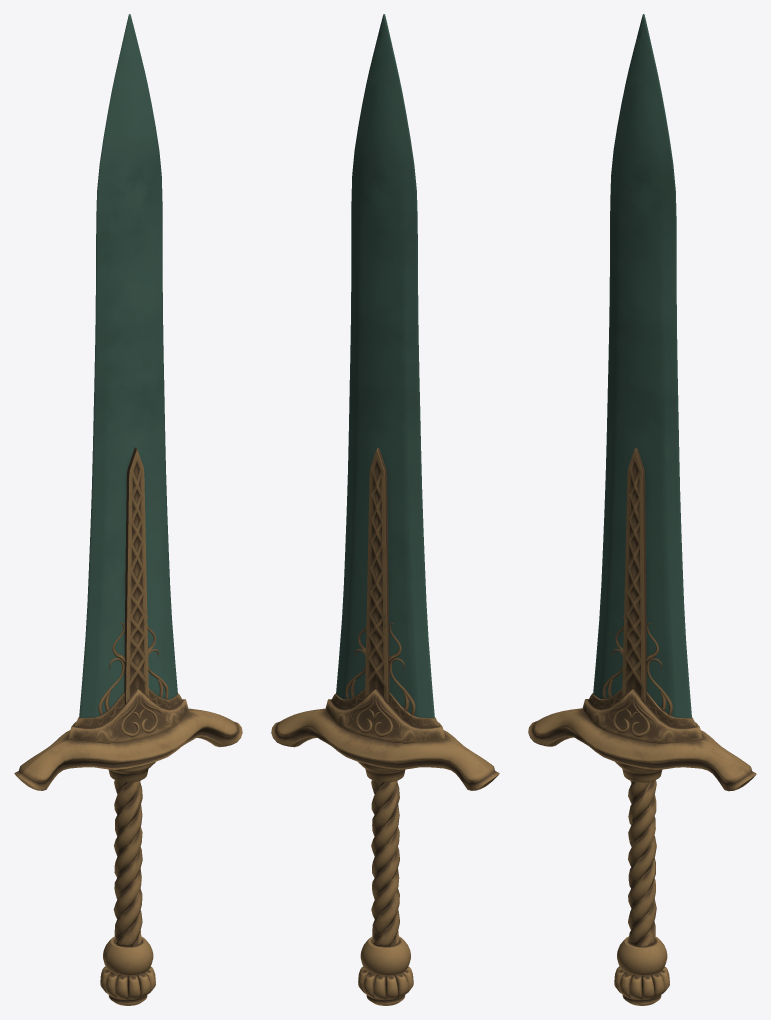
The model's file is LunarSword.fbx.
The picture shows the model from 3 angles, left to right: view 1: azimuth 30°, elevation 25°; view 2: azimuth 150°, elevation 25°; view 3: azimuth 330°, elevation 25°; orthographic projection.
Visible parts, largest first — view 1: 3d66-Editable_Poly-20115279-001.001, 3d66-Editable_Poly-20115279-001; view 2: 3d66-Editable_Poly-20115279-001.001, 3d66-Editable_Poly-20115279-001; view 3: 3d66-Editable_Poly-20115279-001.001, 3d66-Editable_Poly-20115279-001.
Boxes of the visible parts, <box> form: 3d66-Editable_Poly-20115279-001.001: <box>79,14,177,717</box>; 3d66-Editable_Poly-20115279-001: <box>14,447,242,1005</box>; 3d66-Editable_Poly-20115279-001.001: <box>336,14,434,717</box>; 3d66-Editable_Poly-20115279-001: <box>271,447,499,1005</box>; 3d66-Editable_Poly-20115279-001.001: <box>593,14,691,717</box>; 3d66-Editable_Poly-20115279-001: <box>528,447,756,1005</box>.
Size of the model in its own units: 16534 by 70838 by 5986.
Materials: 1 (1 with a texture image).
